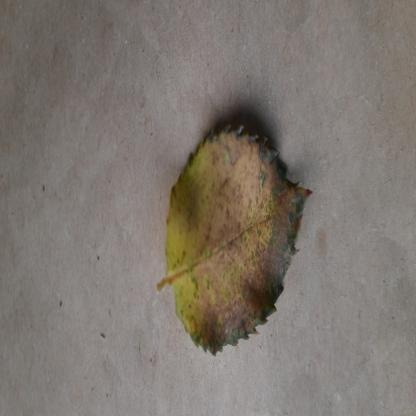black-spot: (162, 123, 310, 358)
